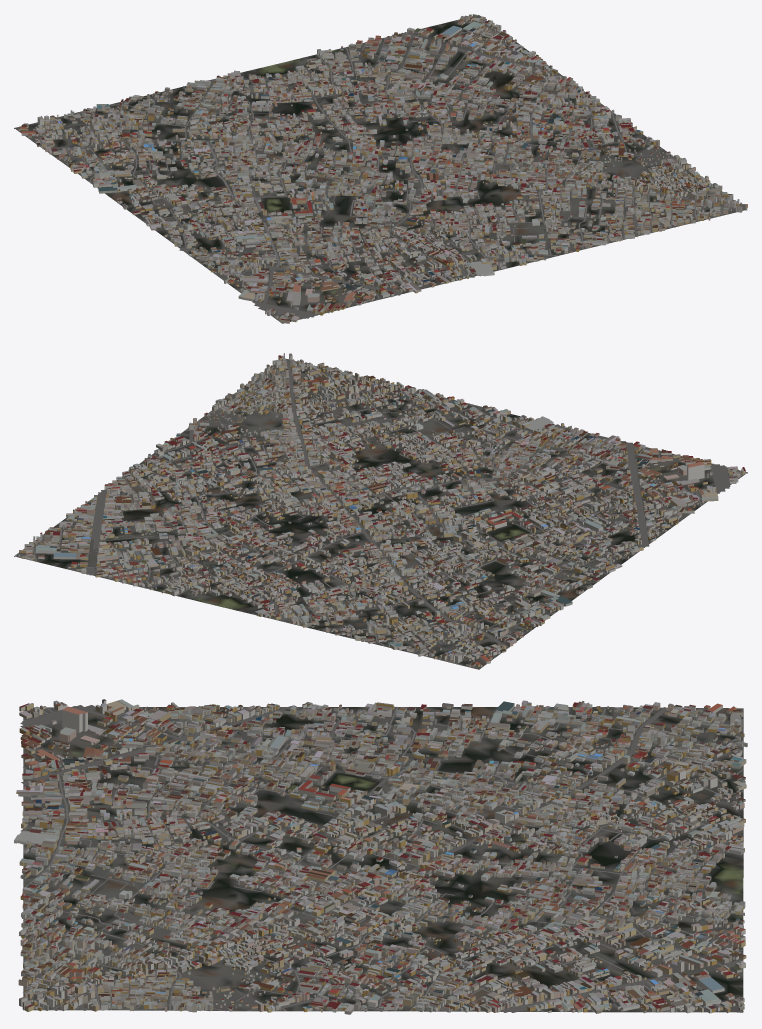
3 views of the same model, one above another, from view 1: azimuth 30°, elevation 25°; view 2: azimuth 150°, elevation 25°; view 3: azimuth 270°, elevation 25° (orthographic). The views are drawn at different scales.
Parts seen in each view (by area): view 1: buildings, ground, roads; view 2: buildings, ground, roads; view 3: buildings, ground, roads.
Boxes of the visible parts, x1=… form: buildings: x1=18, y1=14, x2=747, y2=323; ground: x1=14, y1=15, x2=747, y2=323; roads: x1=31, y1=15, x2=743, y2=320; buildings: x1=18, y1=353, x2=745, y2=667; ground: x1=14, y1=359, x2=747, y2=669; roads: x1=15, y1=359, x2=743, y2=665; buildings: x1=14, y1=699, x2=747, y2=1014; ground: x1=23, y1=707, x2=743, y2=1012; roads: x1=20, y1=705, x2=743, y2=1012.
Size of the model in its own units: 1436 by 44.58 by 1427.
